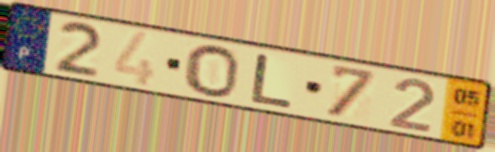2: (52, 20, 106, 80), (385, 77, 437, 135)
4: (111, 29, 159, 90)
7: (324, 63, 377, 121)
L: (247, 51, 297, 110)
O: (183, 43, 241, 99)
